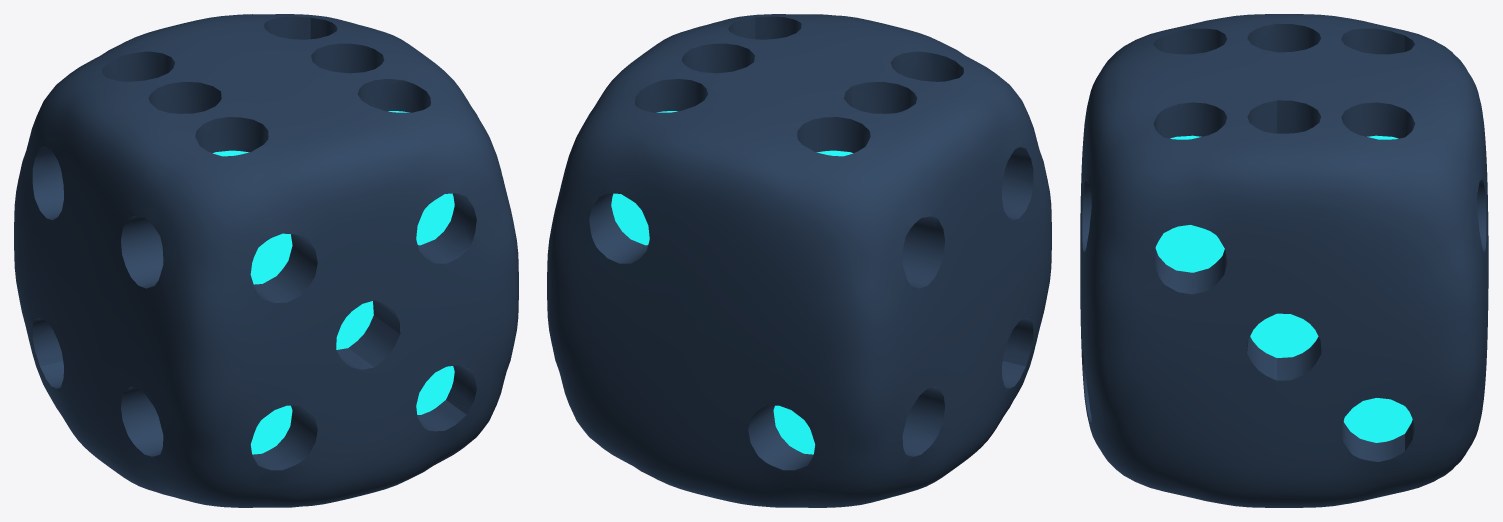
File: Die.fbx
3 views of the same model, side by side, from view 1: azimuth 30°, elevation 25°; view 2: azimuth 150°, elevation 25°; view 3: azimuth 270°, elevation 25° (orthographic).
Parts seen in each view (by area): view 1: Cube; view 2: Cube; view 3: Cube.
Part boxes in pixels (left/top/right/bottom): Cube: left=14, top=14, right=518, bottom=507; Cube: left=547, top=14, right=1051, bottom=507; Cube: left=1080, top=14, right=1488, bottom=507.
Size of the model in its own units: 111 by 111 by 111.
